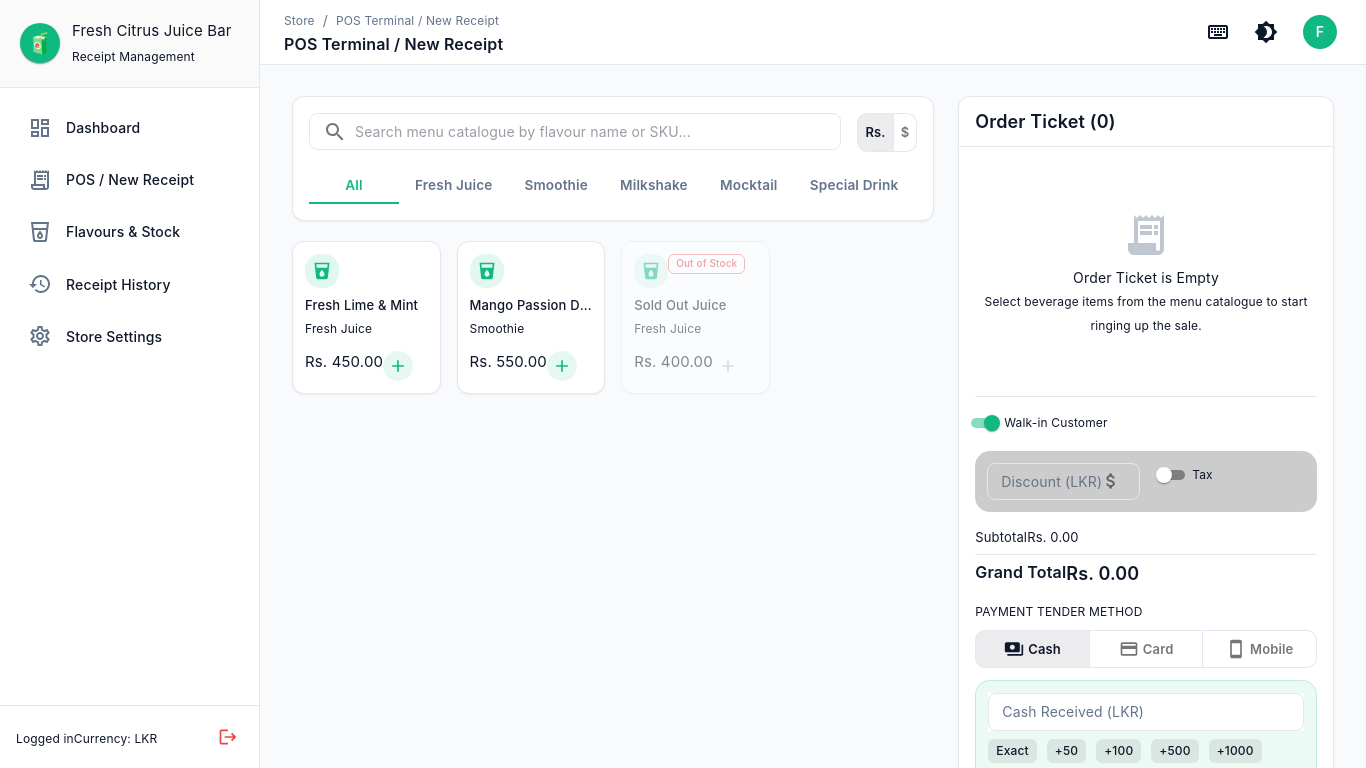
Test: CreateReceipt POS Terminal Suite › adds item to order ticket when catalogue tile is clicked
The width and height of the screenshot is (1366, 768).
Step 1. Click the heading "Fresh Lime & Mint" → point(366, 306), box [305,296,428,315]
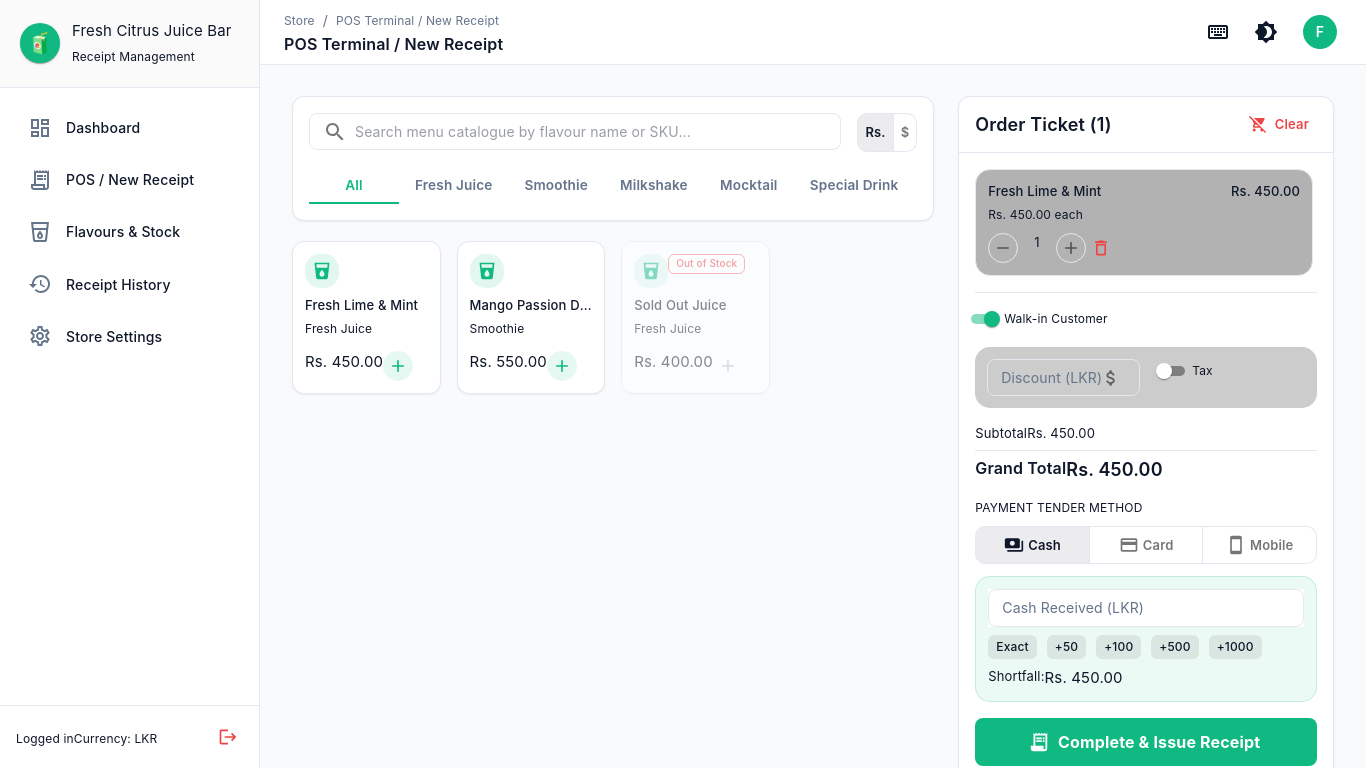
Check: the text "Order Ticket (1)" is shown, box [975,114,1112,135]
Check: the text "Rs. 450.00 each" is shown, box [988,207,1083,222]
Check: the button "Complete & Issue Receipt" is enabled, box [975,718,1317,766]
